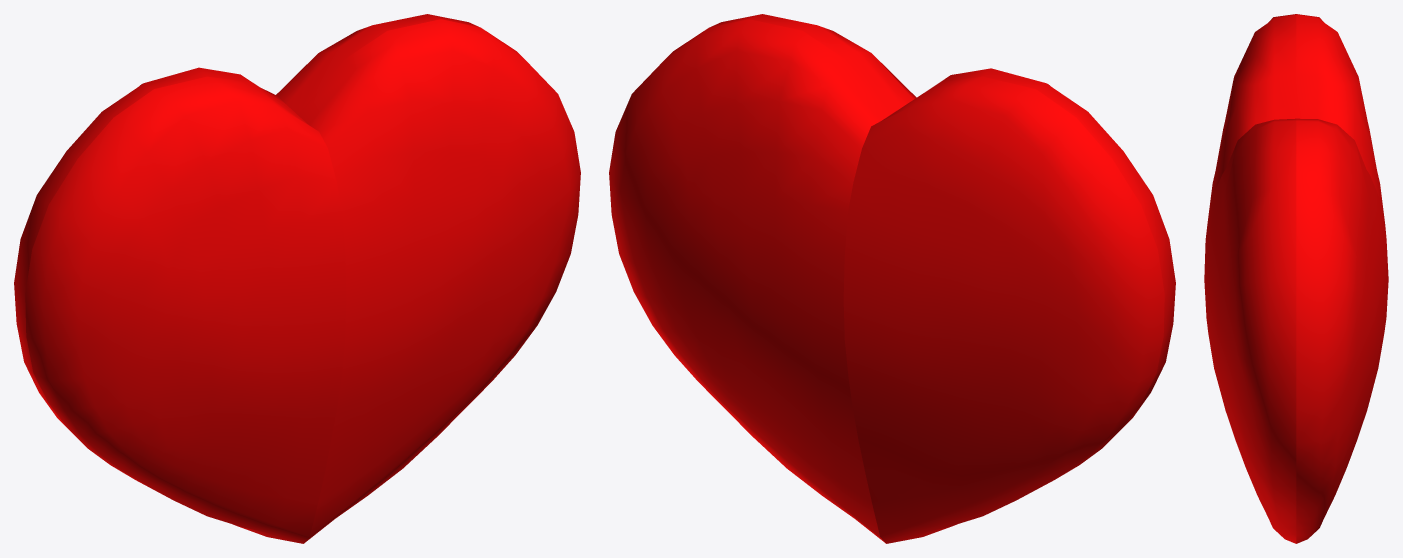
Rendered from heart2.glb.
3 views of the same model, side by side, from view 1: azimuth 30°, elevation 25°; view 2: azimuth 150°, elevation 25°; view 3: azimuth 270°, elevation 25° (orthographic). The views are drawn at different scales.
Parts seen in each view (by area): view 1: pCube4; view 2: pCube4; view 3: pCube4.
Boxes of the visible parts, box(x1,y1,x2,y2) form: pCube4: box(14, 14, 580, 543); pCube4: box(609, 14, 1175, 543); pCube4: box(1204, 14, 1388, 543).
Bounding box in the file's own units: 6.03 × 5.19 × 1.87.
